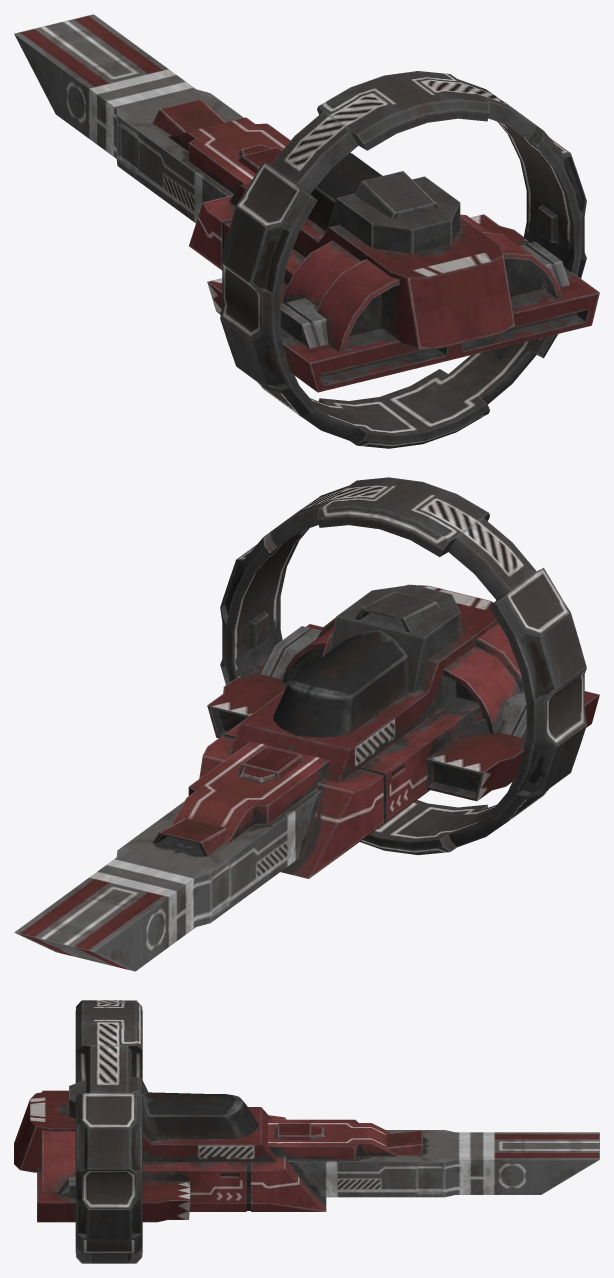
Rendered from zenith_red.glb.
3 views of the same model, one above another, from view 1: azimuth 30°, elevation 25°; view 2: azimuth 150°, elevation 25°; view 3: azimuth 270°, elevation 25° (orthographic). The views are drawn at different scales.
Visible parts, largest first — view 1: zenith_red; view 2: zenith_red; view 3: zenith_red.
Boxes of the visible parts, bbox=[...] form: zenith_red: bbox=[14, 14, 599, 448]; zenith_red: bbox=[14, 477, 599, 971]; zenith_red: bbox=[14, 1000, 599, 1263].
Size of the model in its own units: 0.4663 by 0.4499 by 1.
Materials: 1 (1 with a texture image).
